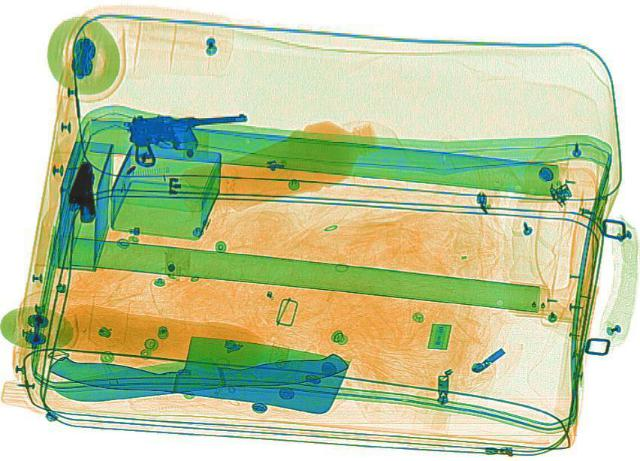Gun: (124, 108, 250, 165), (56, 160, 114, 223)
Knife: (42, 319, 350, 414), (52, 341, 350, 404)
